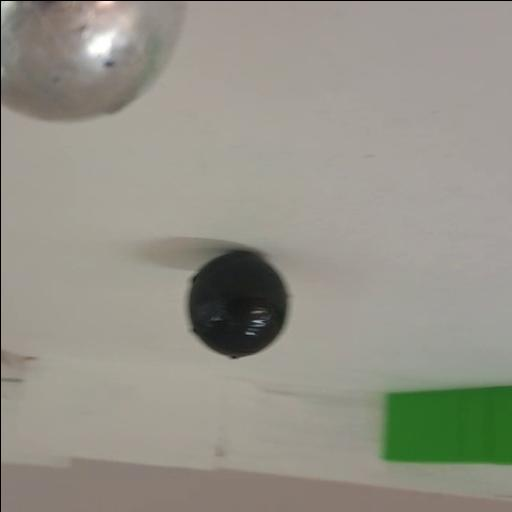alive: (1, 0, 185, 118)
dead: (187, 248, 287, 354)
